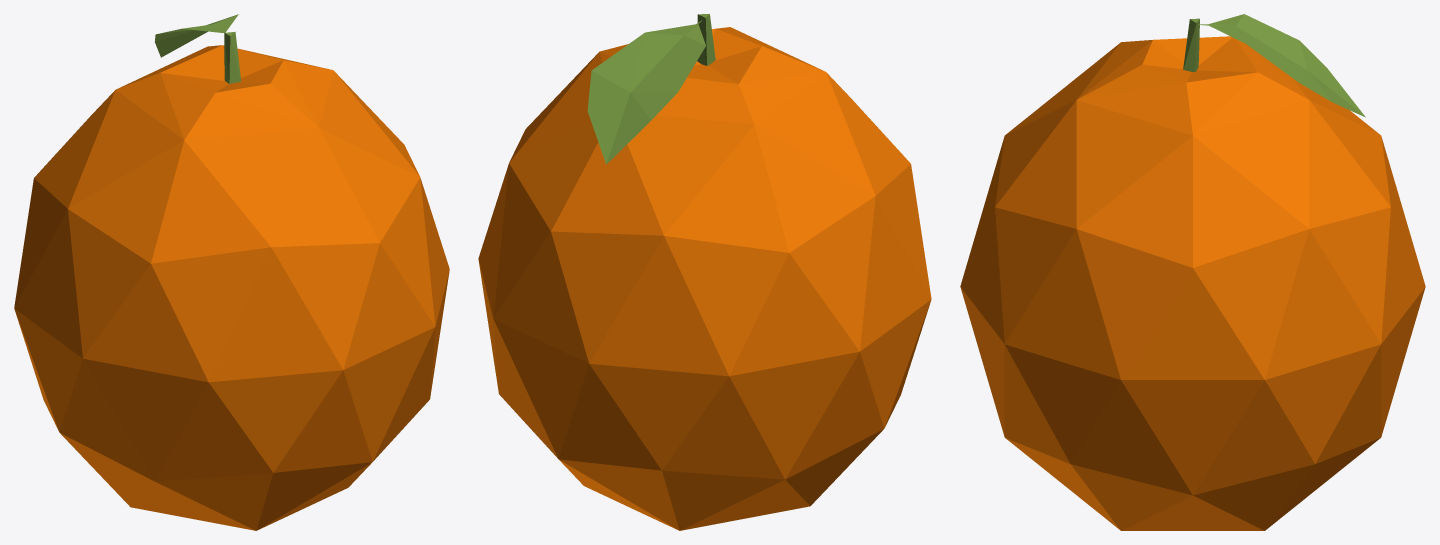
Rendered from Food_07.fbx.
The picture shows the model from 3 angles, left to right: view 1: azimuth 30°, elevation 25°; view 2: azimuth 150°, elevation 25°; view 3: azimuth 270°, elevation 25°; orthographic projection. The views are drawn at different scales.
Visible parts, largest first — view 1: Food_07; view 2: Food_07; view 3: Food_07.
Boxes of the visible parts, box(x1,y1,x2,y2) form: Food_07: box(14, 14, 449, 530); Food_07: box(478, 14, 931, 530); Food_07: box(960, 14, 1425, 530).
Bounding box in the file's own units: 9.2 × 11.32 × 9.67.
